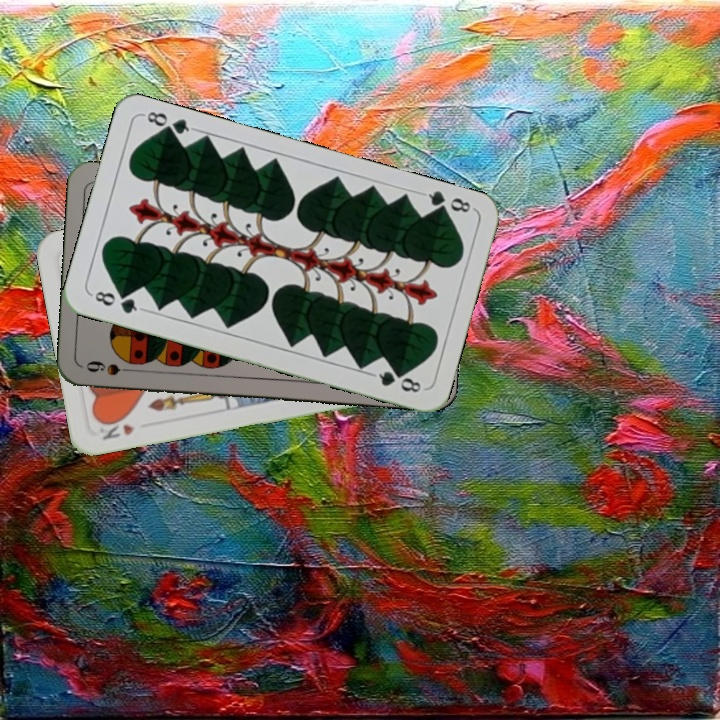G8: (418, 186, 476, 218), (87, 287, 145, 316)
HK: (95, 413, 137, 443)
S9: (82, 356, 141, 378)
